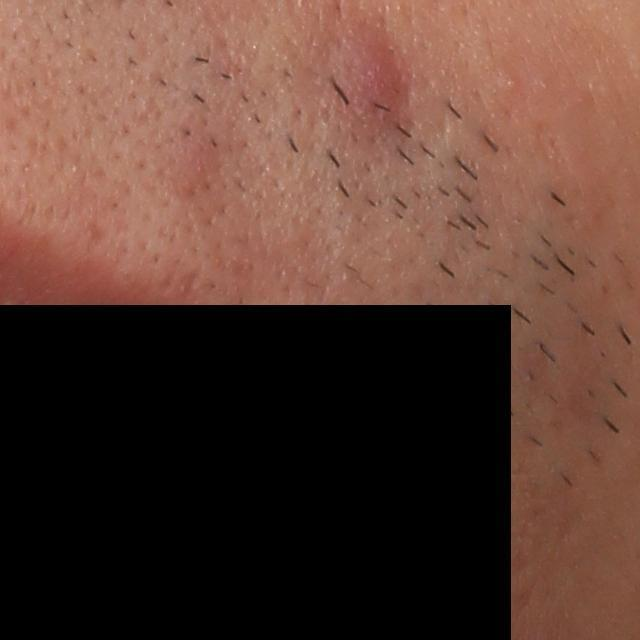papule: (327, 28, 406, 123)
